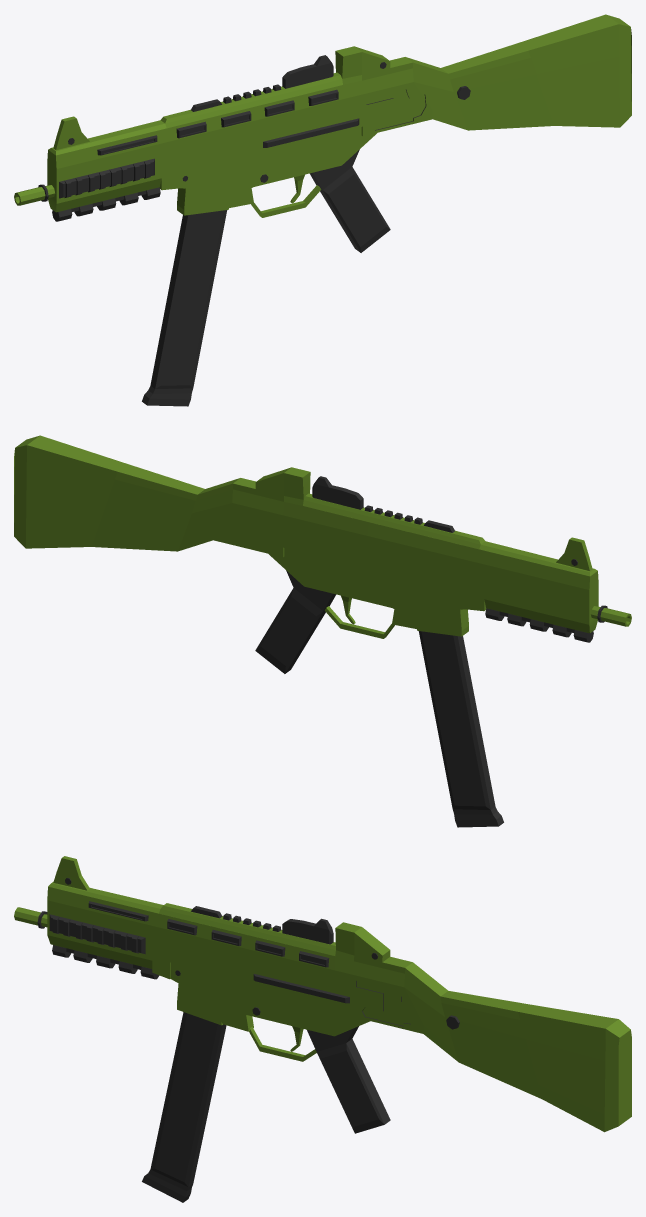
The model's file is weapon-smg.glb.
3 renders of one model, top to bottom at view 1: azimuth 30°, elevation 25°; view 2: azimuth 150°, elevation 25°; view 3: azimuth 330°, elevation 25°, orthographic.
Visible parts, largest first — view 1: UMP9_7; view 2: UMP9_7; view 3: UMP9_7.
Part boxes in pixels (x1,y1,x2,y2): UMP9_7: (14, 14, 631, 406); UMP9_7: (14, 435, 631, 827); UMP9_7: (14, 856, 631, 1202).
Size of the model in its own units: 3.34 by 1.65 by 0.1492.
